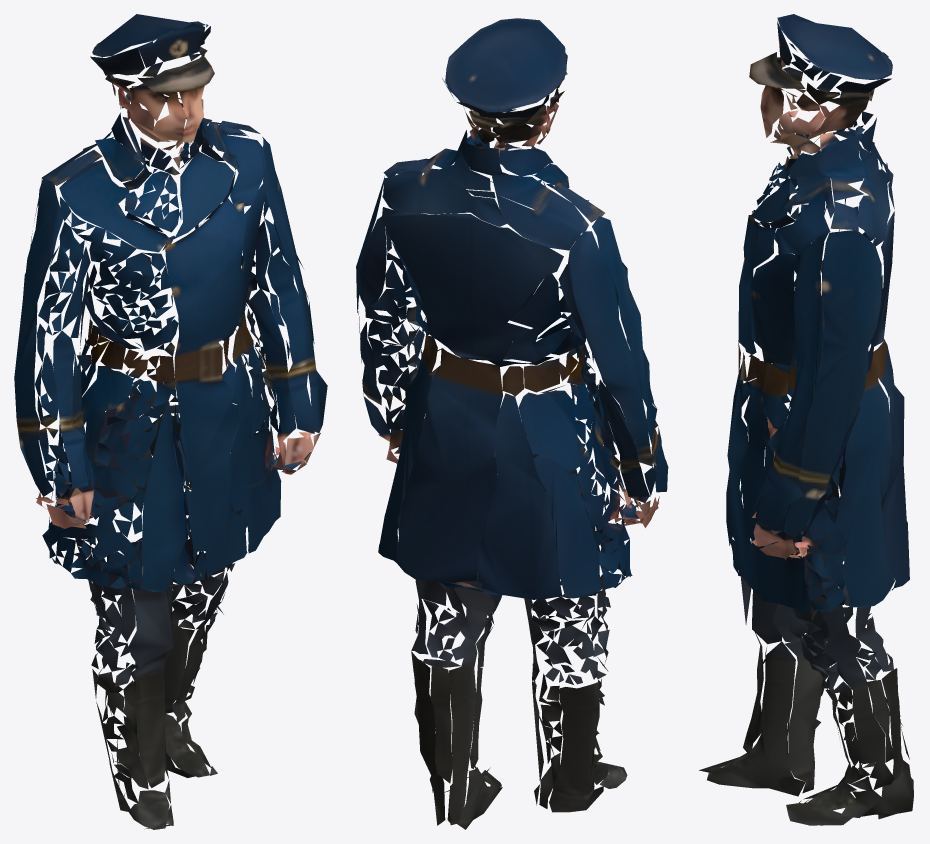
File: char_soldier_blue.glb
3 views of the same model, side by side, from view 1: azimuth 30°, elevation 25°; view 2: azimuth 150°, elevation 25°; view 3: azimuth 270°, elevation 25° (orthographic). The views are drawn at different scales.
Parts seen in each view (by area): view 1: geometry_0; view 2: geometry_0; view 3: geometry_0.
Boxes of the visible parts, x1,y1,x2,y2 form: geometry_0: [14, 14, 327, 829]; geometry_0: [356, 18, 668, 829]; geometry_0: [699, 14, 913, 825].
Bounding box in the file's own units: 0.7246 × 1.81 × 0.4518.
1 material, 1 textured.
